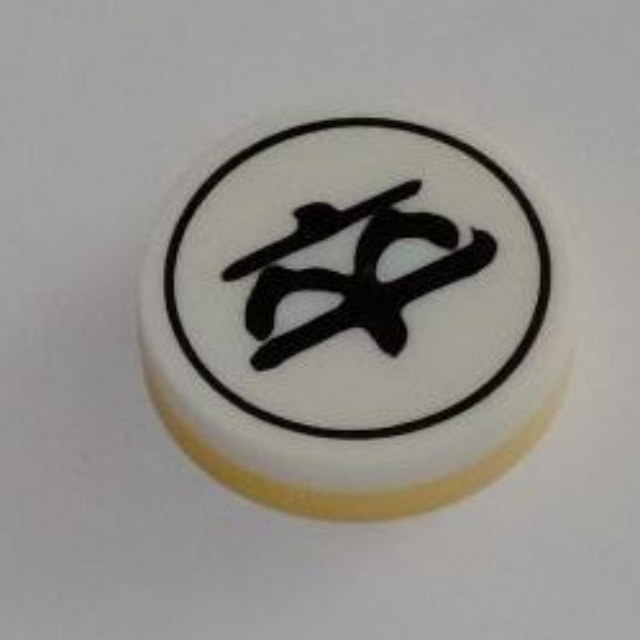black_chot: (125, 92, 578, 517)
